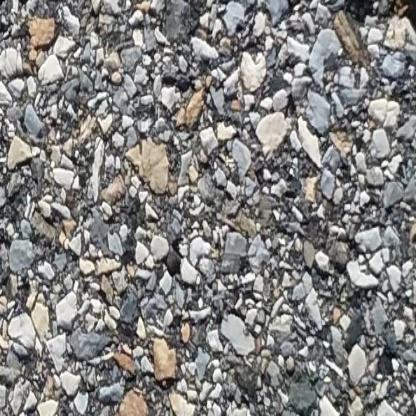Cracks: (380, 0, 416, 64), (0, 0, 44, 24)
